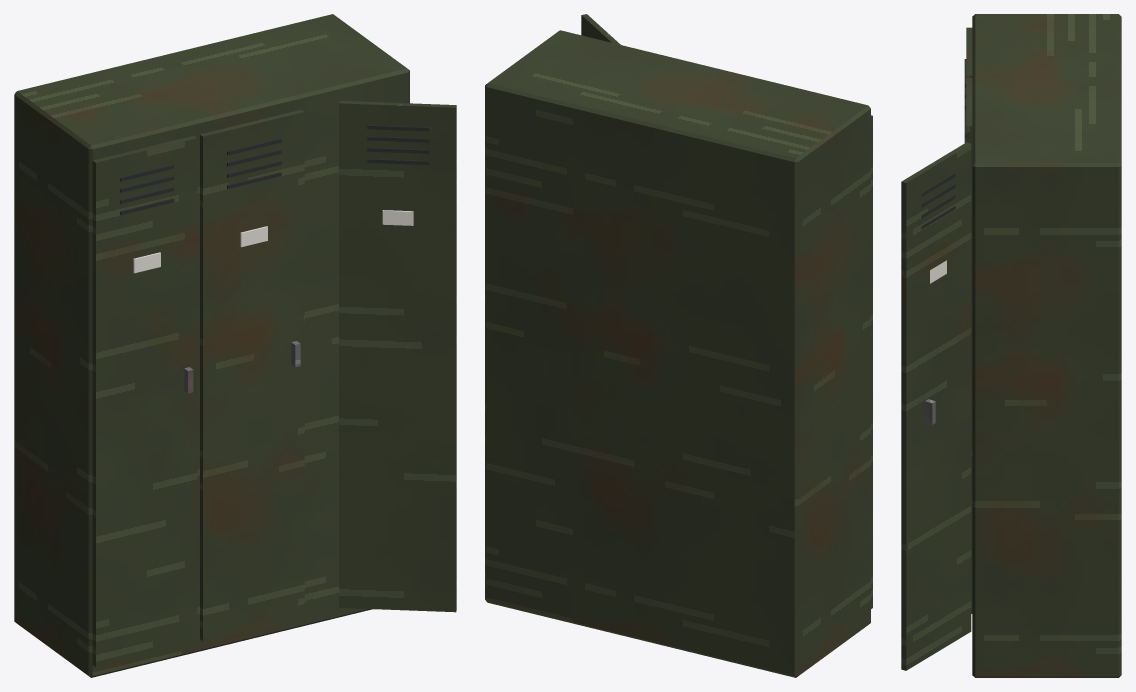
Rendered from metal_cabinet.glb.
3 views of the same model, side by side, from view 1: azimuth 30°, elevation 25°; view 2: azimuth 150°, elevation 25°; view 3: azimuth 270°, elevation 25° (orthographic). The views are drawn at different scales.
Visible parts, largest first — view 1: metal_cabinet; view 2: metal_cabinet; view 3: metal_cabinet.
Part boxes in pixels (bbox=[...]): metal_cabinet: bbox=[14, 14, 456, 677]; metal_cabinet: bbox=[485, 14, 872, 677]; metal_cabinet: bbox=[901, 14, 1121, 677].
Size of what is drawn, in the model's own units: 1.25 by 1.9 by 0.7372.
Materials: 4 (2 with a texture image).
